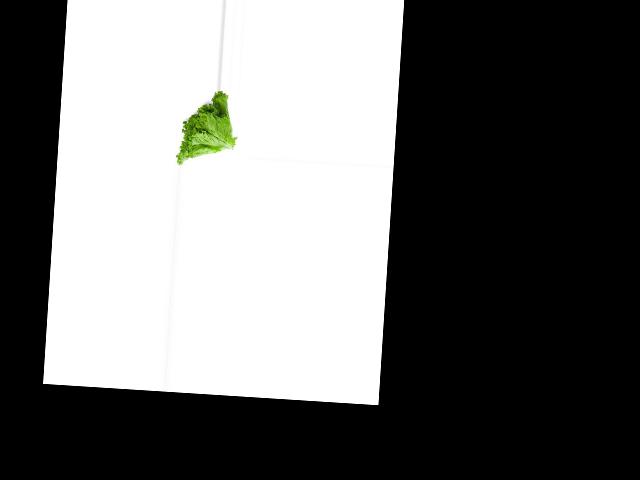lettuce: (174, 87, 238, 169)
